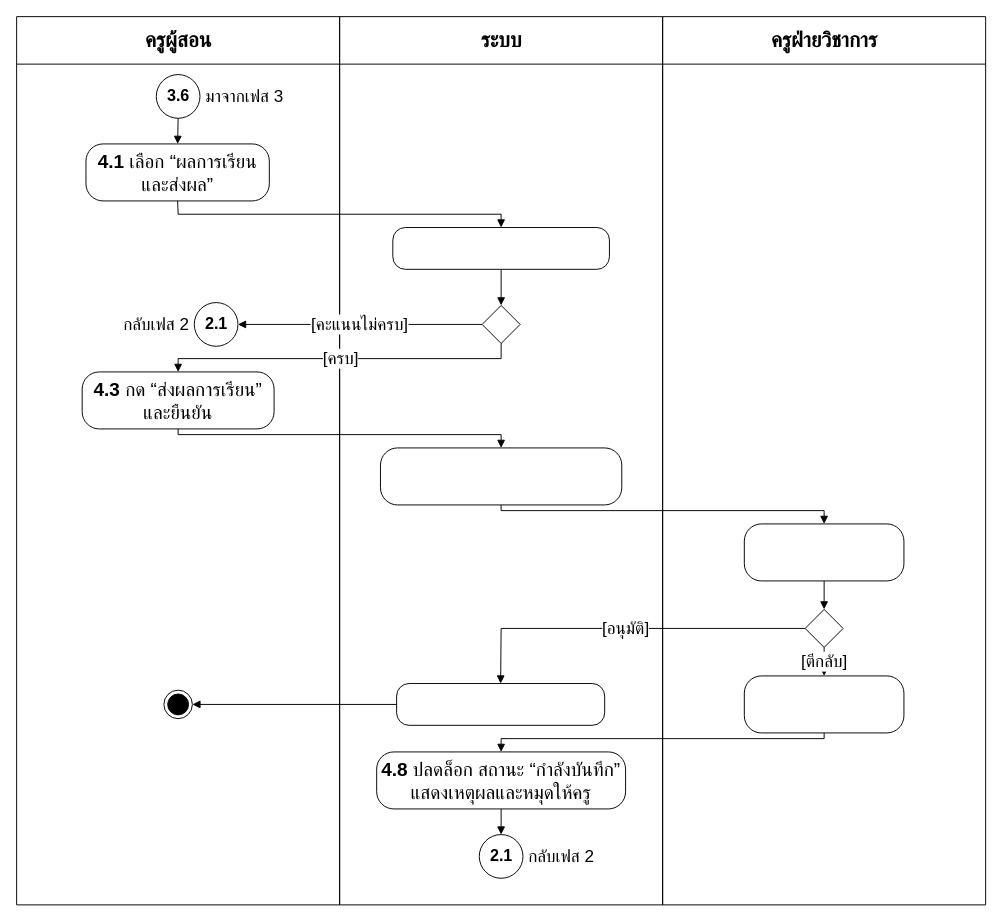
Some shapes in this 1002 by 922 pixel diagram are drawn without their labels. Here are the shapes that lost their labels. From the top down, the centre of each, then its label:
pixel 500 248: 4.2 แสดงรายการตรวจก่อนส่ง
pixel 501 476: 4.4 ล็อกข้อมูล สถานะ “รอตรวจ” และบันทึกรอบการส่ง
pixel 823 552: 4.5 เปิดกล่องงาน และตรวจผลการเรียน
pixel 500 704: 4.6 เปลี่ยนเป็น “อนุมัติแล้ว”
pixel 823 704: 4.7 ปักหมุดข้อสังเกต และกรอกเหตุผล
